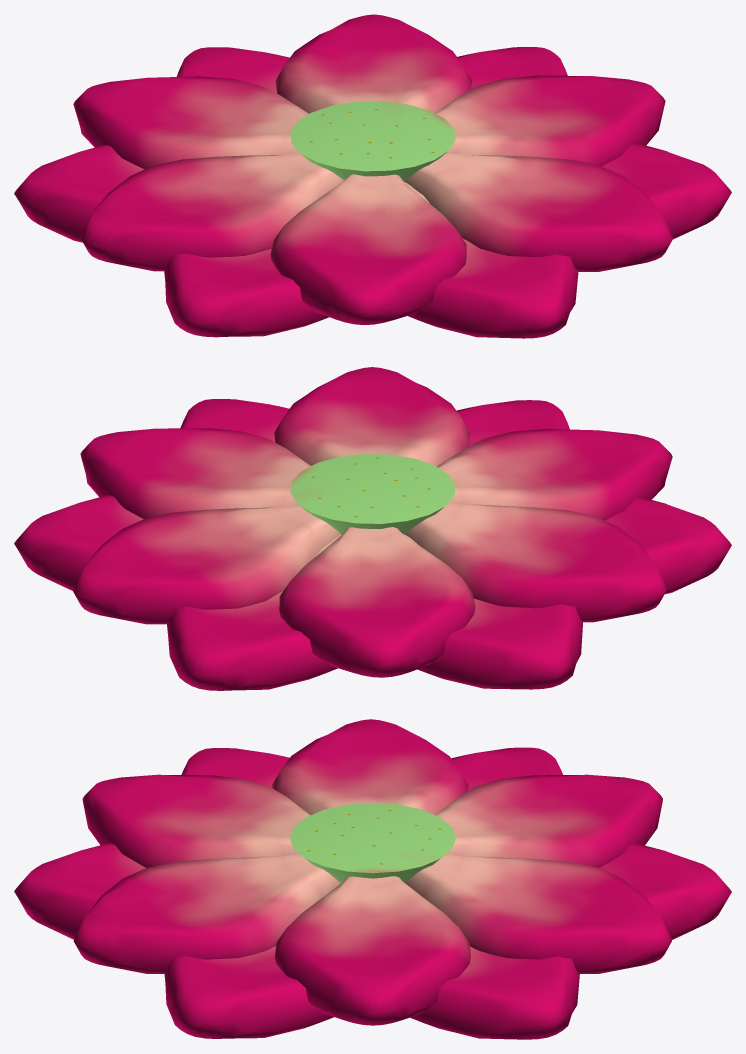
Rendered from hoa7.fbx.
The picture shows the model from 3 angles, top to bottom: view 1: azimuth 30°, elevation 25°; view 2: azimuth 150°, elevation 25°; view 3: azimuth 270°, elevation 25°; orthographic projection.
Visible parts, largest first — view 1: polySurface85, polySurface86, polySurface44, polySurface45, polySurface51, polySurface49, polySurface55, polySurface48, polySurface47, polySurface54, polySurface56, polySurface53 (+1 smaller); view 2: polySurface49, polySurface45, polySurface44, polySurface51, polySurface86, polySurface85, polySurface53, polySurface54, polySurface47, polySurface48, polySurface52, polySurface55 (+1 smaller); view 3: polySurface85, polySurface49, polySurface51, polySurface86, polySurface45, polySurface44, polySurface56, polySurface52, polySurface47, polySurface53, polySurface55, polySurface54 (+1 smaller).
Boxes of the visible parts, bbox=[...] form: polySurface85: bbox=[405, 152, 672, 271]; polySurface86: bbox=[270, 174, 466, 324]; polySurface44: bbox=[80, 153, 343, 271]; polySurface45: bbox=[73, 76, 308, 169]; polySurface51: bbox=[435, 75, 665, 166]; polySurface49: bbox=[275, 14, 471, 113]; polySurface55: bbox=[404, 182, 578, 338]; polySurface48: bbox=[164, 249, 329, 337]; polySurface47: bbox=[290, 101, 455, 181]; polySurface54: bbox=[14, 144, 144, 242]; polySurface56: bbox=[602, 143, 731, 239]; polySurface53: bbox=[176, 47, 289, 93]; polySurface49: bbox=[73, 505, 340, 624]; polySurface45: bbox=[279, 527, 475, 677]; polySurface44: bbox=[405, 503, 666, 622]; polySurface51: bbox=[80, 428, 310, 518]; polySurface86: bbox=[437, 429, 672, 520]; polySurface85: bbox=[274, 367, 470, 466]; polySurface53: bbox=[167, 535, 341, 690]; polySurface54: bbox=[404, 534, 582, 689]; polySurface47: bbox=[290, 454, 455, 534]; polySurface48: bbox=[605, 497, 731, 594]; polySurface52: bbox=[14, 495, 143, 590]; polySurface55: bbox=[457, 400, 569, 445]; polySurface85: bbox=[73, 854, 340, 973]; polySurface49: bbox=[405, 854, 671, 973]; polySurface51: bbox=[275, 876, 470, 1025]; polySurface86: bbox=[82, 774, 310, 867]; polySurface45: bbox=[435, 774, 662, 867]; polySurface44: bbox=[272, 719, 468, 815]; polySurface56: bbox=[164, 946, 333, 1038]; polySurface52: bbox=[410, 946, 579, 1039]; polySurface47: bbox=[290, 803, 455, 883]; polySurface53: bbox=[599, 843, 731, 939]; polySurface55: bbox=[14, 842, 146, 939]; polySurface54: bbox=[451, 747, 562, 791].
Bounding box in the file's own units: 81.97 × 12.53 × 87.5.
Materials: 1 (1 with a texture image).
